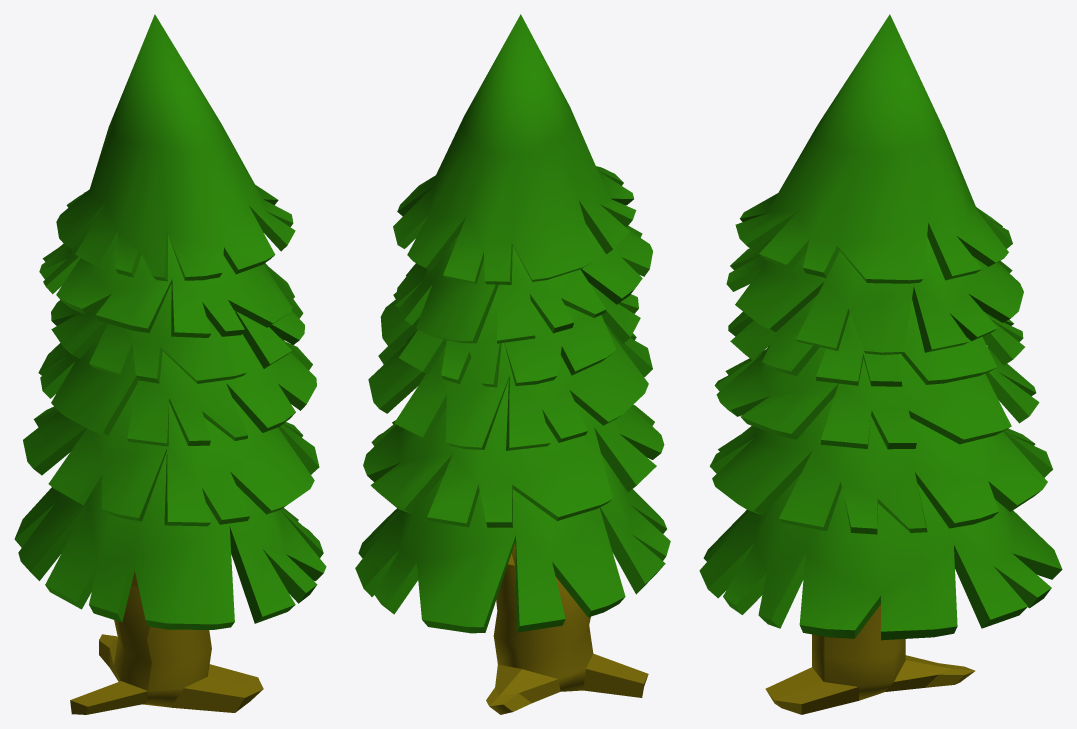
Rendered from TreeEdit.fbx.
The picture shows the model from 3 angles, left to right: view 1: azimuth 30°, elevation 25°; view 2: azimuth 150°, elevation 25°; view 3: azimuth 270°, elevation 25°; orthographic projection. The views are drawn at different scales.
Visible parts, largest first — view 1: pCone7, pCone1, pCone3, pCone4, pCone6, TreeStump, pCone5; view 2: pCone7, pCone1, pCone3, pCone4, pCone6, pCone5, TreeStump; view 3: pCone7, pCone1, pCone3, pCone6, pCone4, pCone5, TreeStump.
Boxes of the visible parts, x1,y1,x2,y2 form: pCone7: (56,14,295,281); pCone1: (14,452,326,629); pCone3: (23,385,319,526); pCone4: (38,334,316,446); pCone6: (39,234,294,337); TreeStump: (70,571,263,714); pCone5: (51,283,304,383); pCone7: (393,14,636,284); pCone1: (355,454,670,633); pCone3: (363,379,664,527); pCone4: (368,323,652,450); pCone6: (394,224,652,343); pCone5: (380,283,640,387); TreeStump: (486,542,648,714); pCone7: (735,14,1012,283); pCone1: (699,474,1062,640); pCone3: (709,396,1052,534); pCone6: (726,236,1023,354); pCone4: (714,345,1039,449); pCone5: (728,294,1024,386); TreeStump: (765,604,975,714).
Size of the model in its own units: 62.66 by 158 by 75.41.
